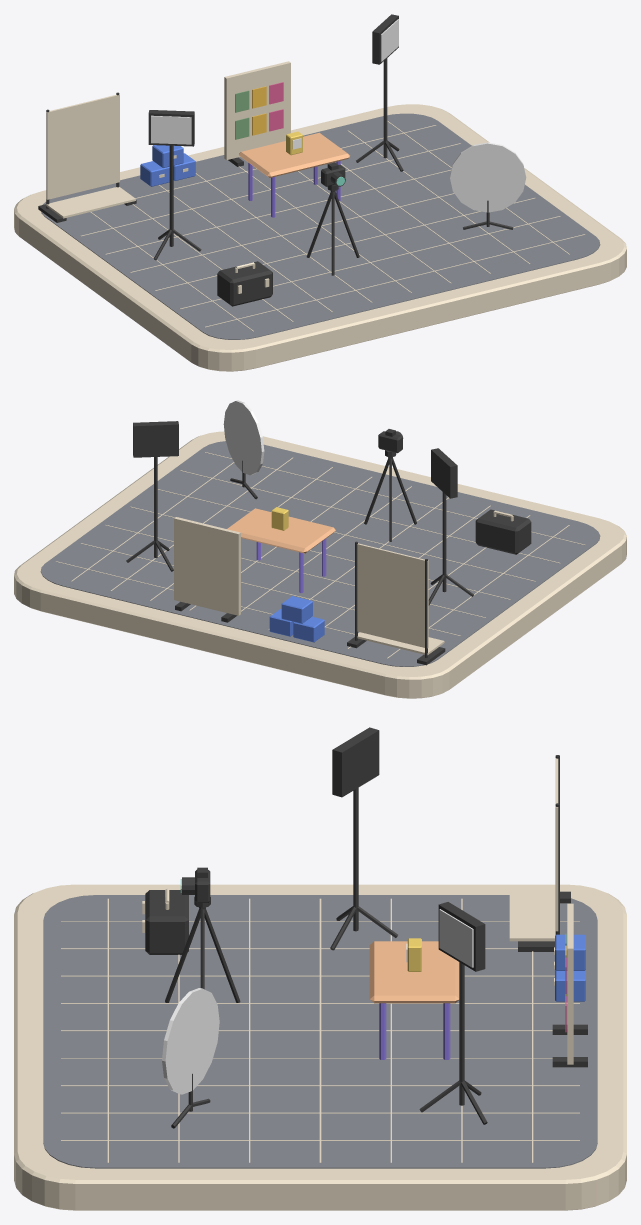
Rendered from room.fbx.
The picture shows the model from 3 angles, top to bottom: view 1: azimuth 30°, elevation 25°; view 2: azimuth 150°, elevation 25°; view 3: azimuth 270°, elevation 25°; orthographic projection. The views are drawn at different scales.
Visible parts, largest first — view 1: COM-02 Floor Surface, COM-01 Rounded Base Direct, Seamless backdrop, Reflector, Panel, Rounded table top, Case, Backdrop sweep, Diffuser, Light panel, Stacked case, Stacked case.002 (+3 smaller); view 2: COM-02 Floor Surface, COM-01 Rounded Base Direct, Seamless backdrop, Panel, Rounded table top, Reflector, Case, Light panel.001, Light panel, Stacked case.002, Backdrop sweep, Stacked case (+4 smaller); view 3: COM-02 Floor Surface, COM-01 Rounded Base Direct, Rounded table top, Reflector, Case, Backdrop sweep, Light panel, Diffuser.001, Light panel.001, Panel, Grout X.007, Stacked case.002 (+8 smaller).
Boxes of the visible parts, box(x1,y1,x2,y2) form: COM-02 Floor Surface: box(41, 113, 600, 339); COM-01 Rounded Base Direct: box(14, 104, 626, 371); Seamless backdrop: box(46, 94, 119, 199); Reflector: box(450, 142, 526, 212); Panel: box(224, 61, 290, 160); Rounded table top: box(239, 132, 349, 177); Case: box(217, 261, 272, 306); Backdrop sweep: box(46, 187, 135, 218); Diffuser: box(151, 115, 191, 144); Light panel: box(148, 110, 194, 146); Stacked case: box(140, 161, 169, 186); Stacked case.002: box(152, 145, 183, 167); COM-02 Floor Surface: box(40, 441, 600, 666); COM-01 Rounded Base Direct: box(14, 431, 626, 698); Seamless backdrop: box(357, 543, 428, 648); Panel: box(174, 517, 240, 615); Rounded table top: box(227, 508, 335, 553); Reflector: box(223, 400, 264, 475); Case: box(475, 509, 531, 554); Light panel.001: box(133, 421, 178, 457); Light panel: box(431, 448, 457, 498); Stacked case.002: box(281, 596, 312, 623); Backdrop sweep: box(357, 632, 444, 655); Stacked case: box(293, 616, 324, 642); COM-02 Floor Surface: box(43, 895, 597, 1168); COM-01 Rounded Base Direct: box(14, 884, 626, 1210); Rounded table top: box(369, 941, 459, 1003); Reflector: box(162, 988, 219, 1094); Case: box(145, 890, 188, 954); Backdrop sweep: box(509, 888, 555, 941); Light panel: box(332, 727, 379, 797); Diffuser.001: box(439, 909, 473, 967); Light panel.001: box(438, 902, 485, 971); Panel: box(567, 903, 573, 1064); Grout X.007: box(61, 1112, 579, 1113); Stacked case.002: box(555, 934, 585, 970).
Size of the model in its own units: 600 by 214 by 520.
